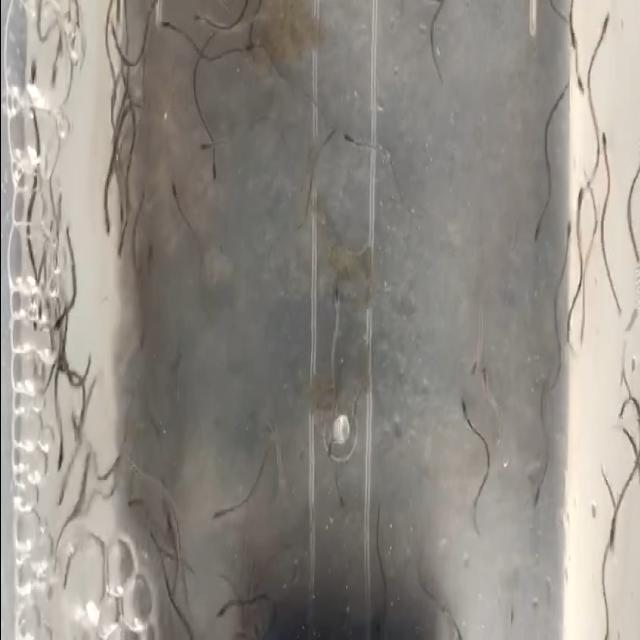active_glass_eel: (324, 109, 346, 182), (190, 0, 218, 55), (460, 336, 486, 391), (452, 393, 481, 442), (128, 310, 152, 368), (325, 483, 351, 534), (116, 444, 142, 494), (477, 360, 505, 406), (336, 107, 358, 165), (570, 170, 590, 230), (192, 119, 216, 167), (114, 234, 140, 278), (322, 278, 344, 329), (529, 193, 548, 250), (569, 54, 590, 104), (560, 14, 578, 72), (96, 197, 116, 249), (598, 505, 620, 552), (48, 474, 70, 520), (206, 590, 232, 628), (590, 4, 620, 34), (612, 388, 628, 444), (165, 176, 183, 225), (158, 496, 180, 536), (598, 114, 614, 164), (558, 200, 574, 250), (202, 496, 220, 540), (156, 14, 172, 62), (50, 342, 68, 382), (22, 52, 42, 84), (206, 148, 222, 186), (52, 434, 68, 472), (66, 402, 82, 439), (144, 236, 156, 276), (632, 152, 640, 198), (106, 21, 120, 42)
